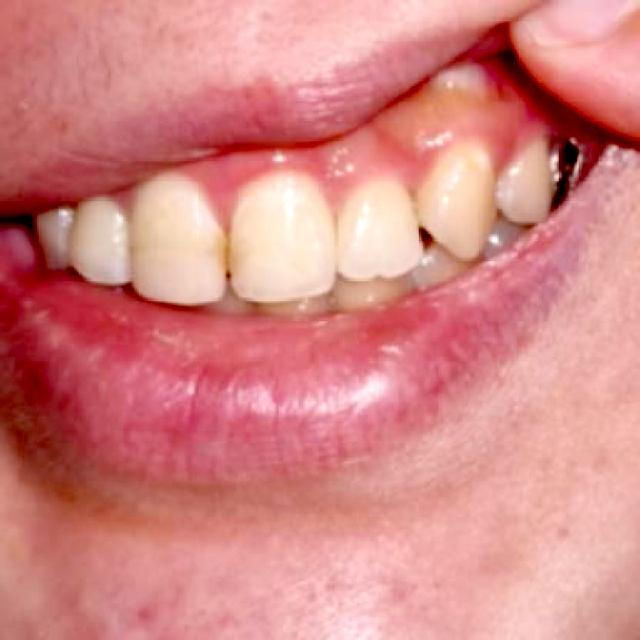Plaque: (451, 140, 485, 187)
